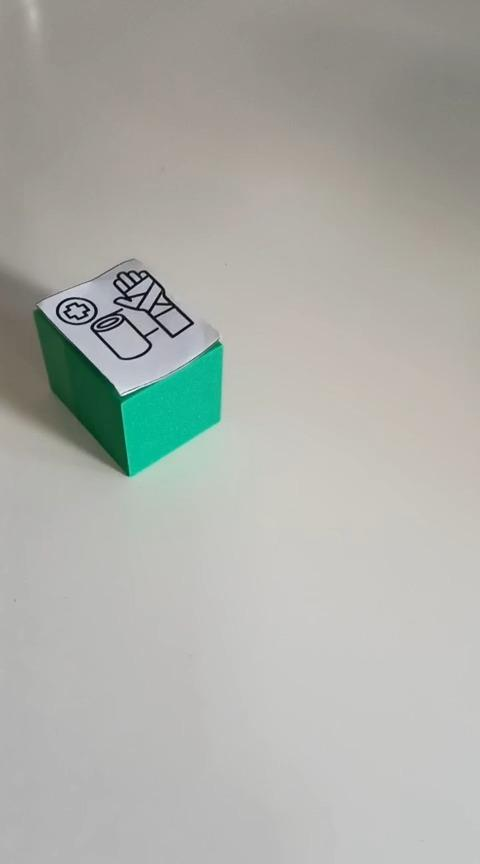Bandages: (32, 256, 224, 477)
